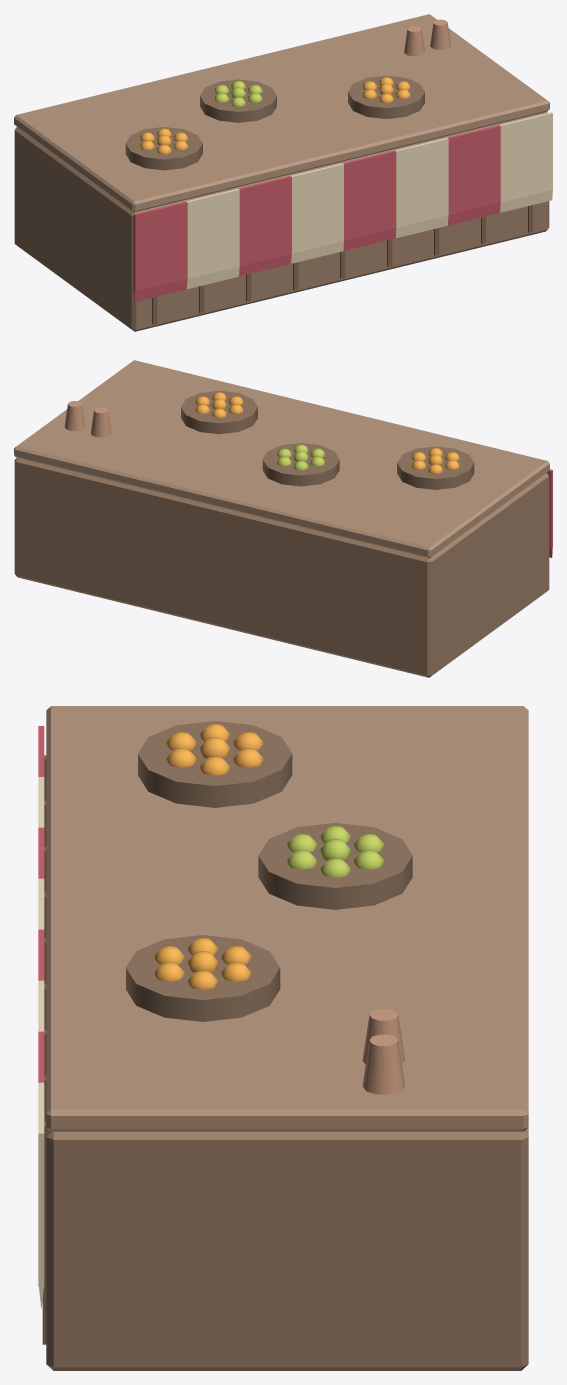
The model's file is stall_counter.glb.
The picture shows the model from 3 angles, top to bottom: view 1: azimuth 30°, elevation 25°; view 2: azimuth 150°, elevation 25°; view 3: azimuth 270°, elevation 25°; orthographic projection. The views are drawn at different scales.
Parts seen in each view (by area): view 1: wood, plank, cloth1, cloth1.004, cloth2, cloth2.004, cloth2.006, cloth1.002, cloth1.006, cloth2.002, plank*0.8, plank*0.009 (+11 smaller); view 2: plank, wood, plank*0.8, plank*0.009, plank*0.010, clay, clay.001; view 3: wood, plank, plank*0.8, plank*0.009, plank*0.010, clay.001, cloth2.006, clay.
Part boxes in pixels (x1=…): wood: x1=14, y1=14, x2=549, y2=212; plank: x1=14, y1=112, x2=549, y2=331; cloth1: x1=133, y1=201, x2=187, y2=291; cloth1.004: x1=343, y1=150, x2=396, y2=240; cloth2: x1=186, y1=188, x2=239, y2=278; cloth2.004: x1=395, y1=137, x2=448, y2=227; cloth2.006: x1=500, y1=112, x2=552, y2=202; cloth1.002: x1=238, y1=176, x2=291, y2=265; cloth1.006: x1=447, y1=125, x2=500, y2=214; cloth2.002: x1=291, y1=163, x2=343, y2=253; plank*0.8: x1=125, y1=127, x2=202, y2=170; plank*0.009: x1=200, y1=79, x2=276, y2=122; plank: x1=14, y1=458, x2=549, y2=677; wood: x1=14, y1=360, x2=549, y2=558; plank*0.8: x1=397, y1=446, x2=474, y2=489; plank*0.009: x1=262, y1=443, x2=339, y2=486; plank*0.010: x1=181, y1=390, x2=257, y2=434; clay: x1=90, y1=407, x2=111, y2=437; clay.001: x1=64, y1=401, x2=85, y2=431; wood: x1=46, y1=706, x2=528, y2=1131; plank: x1=46, y1=1127, x2=528, y2=1370; plank*0.8: x1=138, y1=721, x2=292, y2=807; plank*0.009: x1=258, y1=823, x2=412, y2=909; plank*0.010: x1=126, y1=935, x2=280, y2=1021; clay.001: x1=362, y1=1034, x2=404, y2=1094; cloth2.006: x1=38, y1=1082, x2=44, y2=1286; clay: x1=362, y1=1009, x2=405, y2=1064.
Bounding box in the file's own units: 4 × 1.41 × 2.03.
